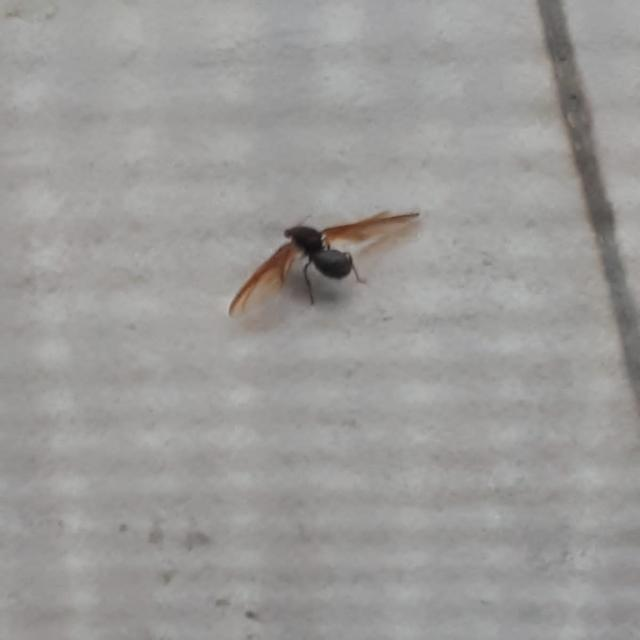Alive-Female-Alate: (228, 212, 419, 320)
